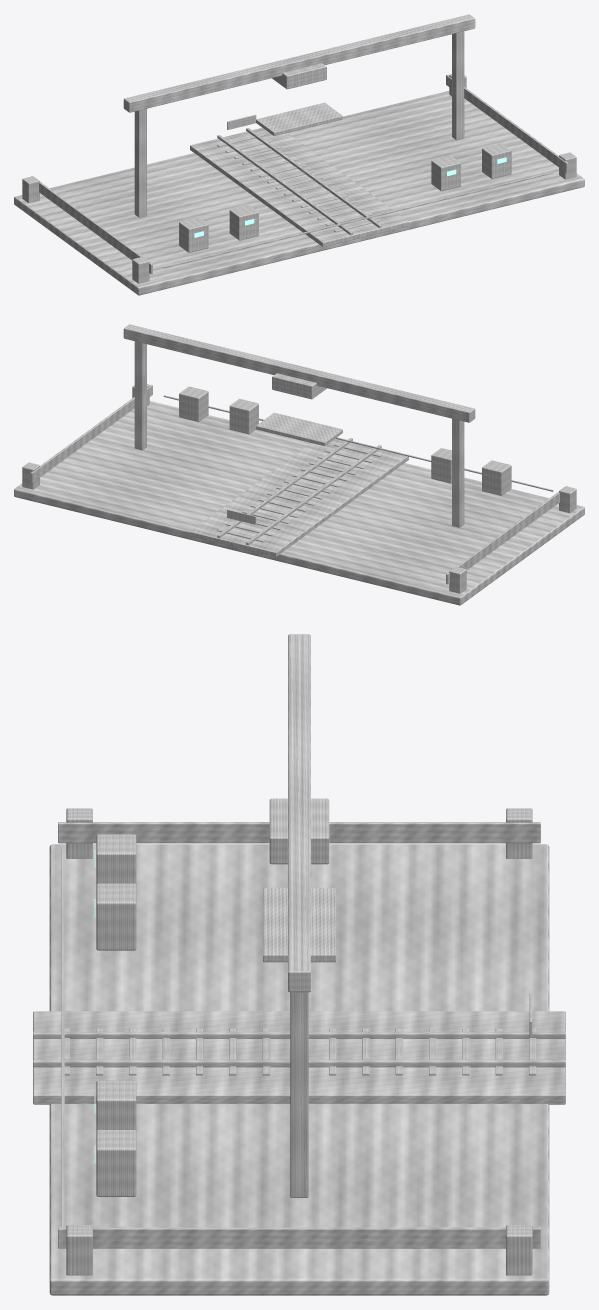
Rendered from freight_platform_variant_d.glb.
The picture shows the model from 3 angles, top to bottom: view 1: azimuth 30°, elevation 25°; view 2: azimuth 150°, elevation 25°; view 3: azimuth 270°, elevation 25°; orthographic projection. The views are drawn at different scales.
Visible parts, largest first — view 1: Platform foundation.003, Track bed.003, Modular crane bridge, Lift frame, Modular crane column.001, Modular crane column, Platform edge guard.007, Platform edge guard.006, Platform warning line.003, Universal connection housing.003, Universal connection housing, Universal connection housing.002 (+6 smaller); view 2: Platform foundation.003, Track bed.003, Modular crane bridge, Lift frame, Modular crane column.001, Modular crane column, Platform edge guard.007, Platform edge guard.006, Universal connection housing, Universal connection housing.003, Universal connection housing.002, Service trolley (+6 smaller); view 3: Platform foundation.003, Track bed.003, Platform edge guard.007, Platform edge guard.006, Modular crane bridge, Rail.007, Rail.006, Modular crane column.001, Lift frame, Universal connection housing.001, Universal connection housing.003, Service trolley (+7 smaller).
Part boxes in pixels (x1,y1,x2,y2): Platform foundation.003: (14,91,584,295); Track bed.003: (190,127,408,247); Modular crane bridge: (123,14,475,112); Lift frame: (256,102,342,136); Modular crane column.001: (452,31,464,140); Modular crane column: (134,108,146,217); Platform edge guard.007: (446,74,568,172); Platform edge guard.006: (31,176,152,274); Platform warning line.003: (163,171,553,268); Universal connection housing.003: (482,143,511,178); Universal connection housing: (179,217,208,252); Universal connection housing.002: (431,156,460,191); Platform foundation.003: (14,401,584,605); Track bed.003: (190,438,408,557); Modular crane bridge: (123,324,475,422); Lift frame: (256,412,342,446); Modular crane column.001: (134,341,146,450); Modular crane column: (452,418,464,527); Platform edge guard.007: (30,384,152,482); Platform edge guard.006: (446,486,567,584); Universal connection housing: (482,460,511,495); Universal connection housing.003: (179,386,208,421); Universal connection housing.002: (229,398,258,434); Service trolley: (272,373,326,399); Platform foundation.003: (49,844,549,1295); Track bed.003: (33,1011,565,1104); Platform edge guard.007: (58,1227,540,1248); Platform edge guard.006: (58,822,540,843); Modular crane bridge: (288,634,310,992); Rail.007: (33,1059,565,1067); Rail.006: (33,1031,565,1038); Modular crane column.001: (290,992,308,1197); Lift frame: (263,888,335,962); Universal connection housing.001: (96,883,136,950); Universal connection housing.003: (96,1130,136,1196); Service trolley: (269,798,329,864).
Size of what is drawn, in the model's own units: 31 by 9.25 by 16.
Materials: 6 (6 with a texture image).
